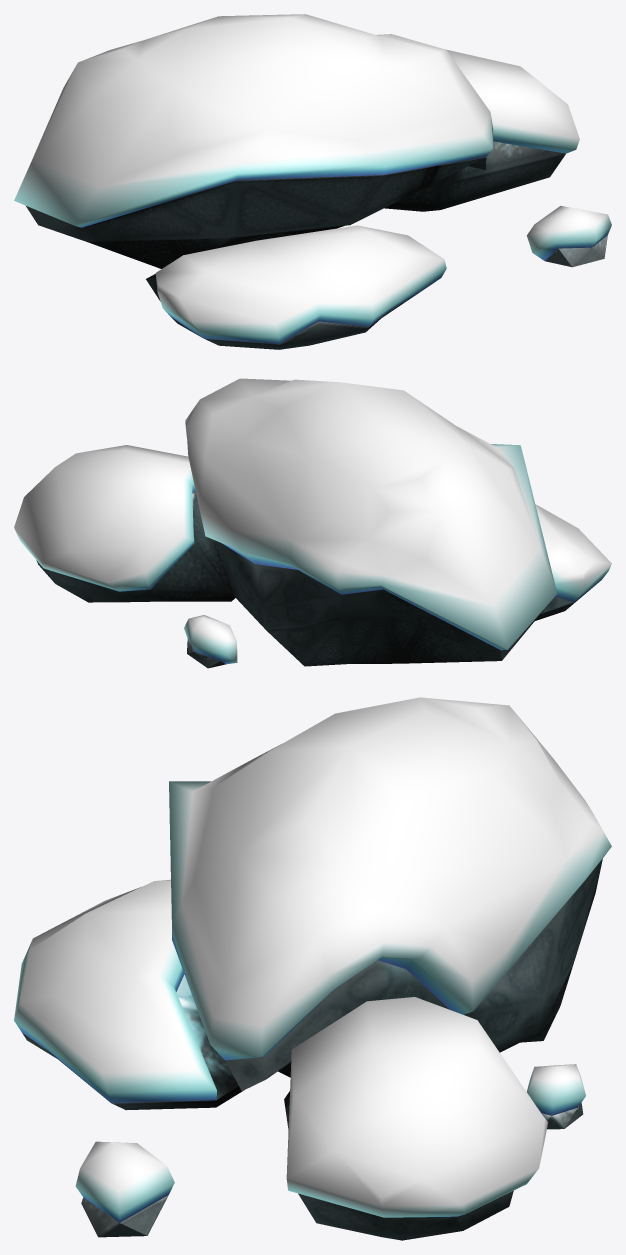
The model's file is Rock_01.fbx.
3 renders of one model, top to bottom at view 1: azimuth 30°, elevation 25°; view 2: azimuth 150°, elevation 25°; view 3: azimuth 270°, elevation 25°, orthographic. The views are drawn at different scales.
Parts seen in each view (by area): view 1: Rock_01; view 2: Rock_01; view 3: Rock_01.
Boxes of the visible parts, x1,y1,x2,y2 form: Rock_01: (14, 14, 611, 349); Rock_01: (14, 378, 611, 668); Rock_01: (14, 697, 611, 1240).
Size of the model in its own units: 149 by 65.76 by 106.
